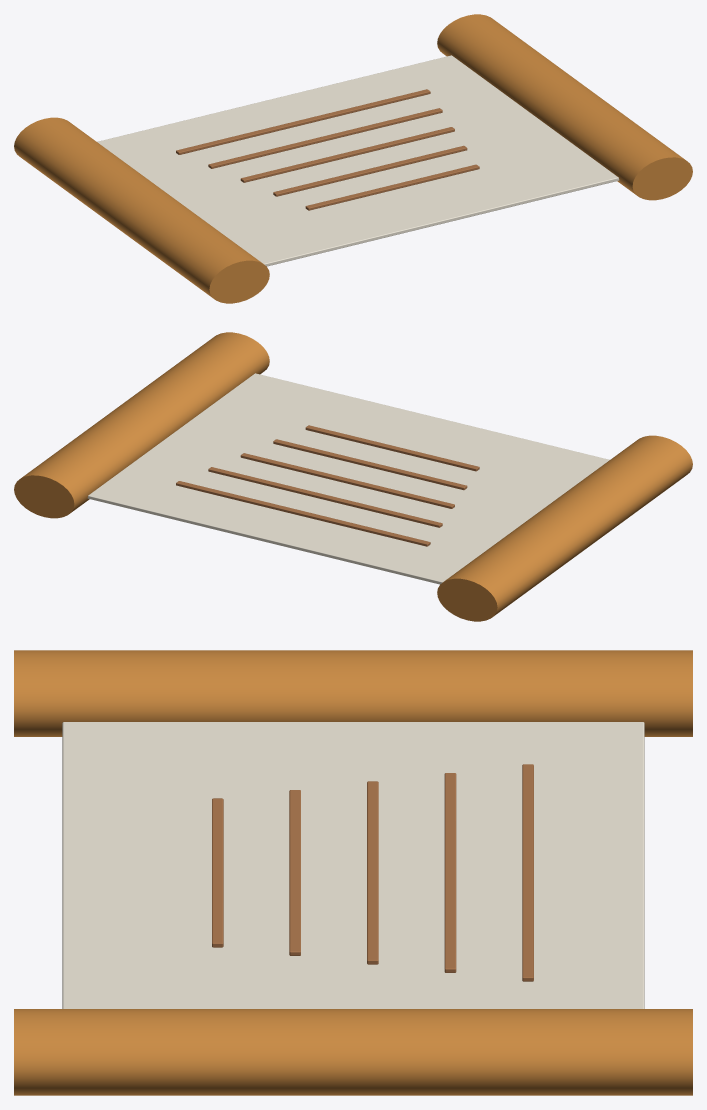
Rendered from wp-parchemin-deroule.glb.
The picture shows the model from 3 angles, top to bottom: view 1: azimuth 30°, elevation 25°; view 2: azimuth 150°, elevation 25°; view 3: azimuth 270°, elevation 25°; orthographic projection. The views are drawn at different scales.
Visible parts, largest first — view 1: wp-parchemin-deroule; view 2: wp-parchemin-deroule; view 3: wp-parchemin-deroule.
Part boxes in pixels (box(x1,y1,x2,y2)): wp-parchemin-deroule: box(14, 14, 692, 303); wp-parchemin-deroule: box(14, 332, 692, 621); wp-parchemin-deroule: box(14, 650, 692, 1095).
Bounding box in the file's own units: 0.5 × 0.04 × 0.35.
